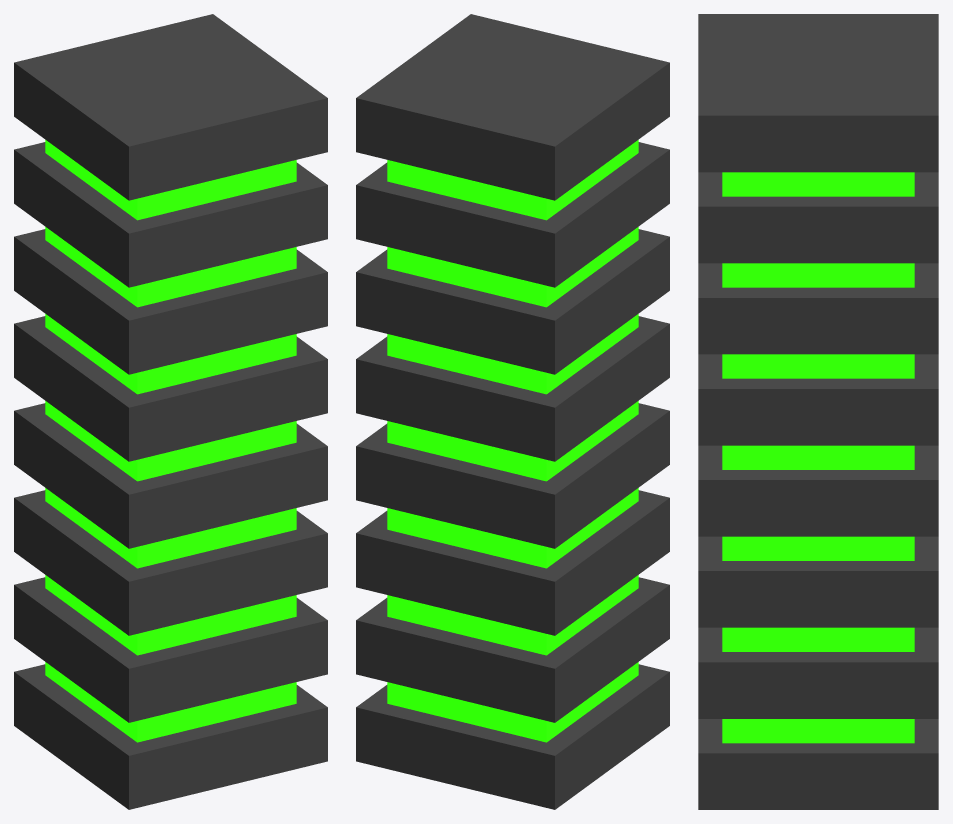
Rendered from tower1.fbx.
3 views of the same model, side by side, from view 1: azimuth 30°, elevation 25°; view 2: azimuth 150°, elevation 25°; view 3: azimuth 270°, elevation 25° (orthographic). The views are drawn at different scales.
Parts seen in each view (by area): view 1: Tower1; view 2: Tower1; view 3: Tower1.
Part boxes in pixels (x1=…): Tower1: x1=14, y1=14, x2=327, y2=809; Tower1: x1=356, y1=14, x2=669, y2=809; Tower1: x1=698, y1=14, x2=938, y2=809.
Size of the model in its own units: 478 by 1524 by 478.
